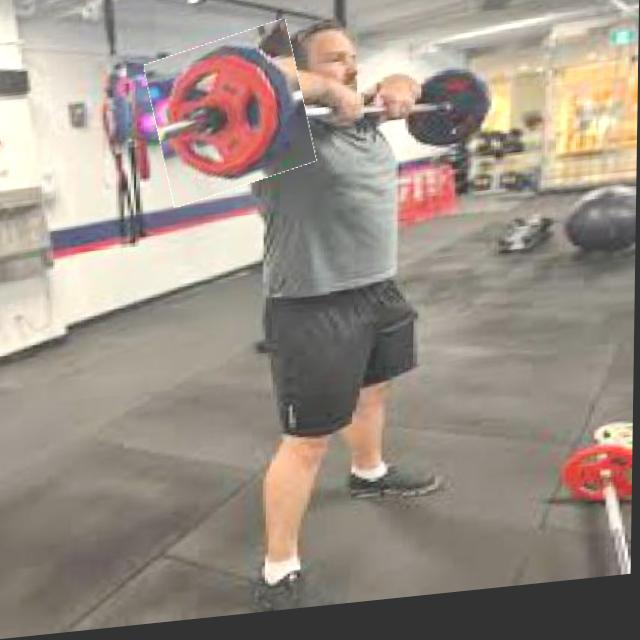barbell: (151, 30, 313, 208)
